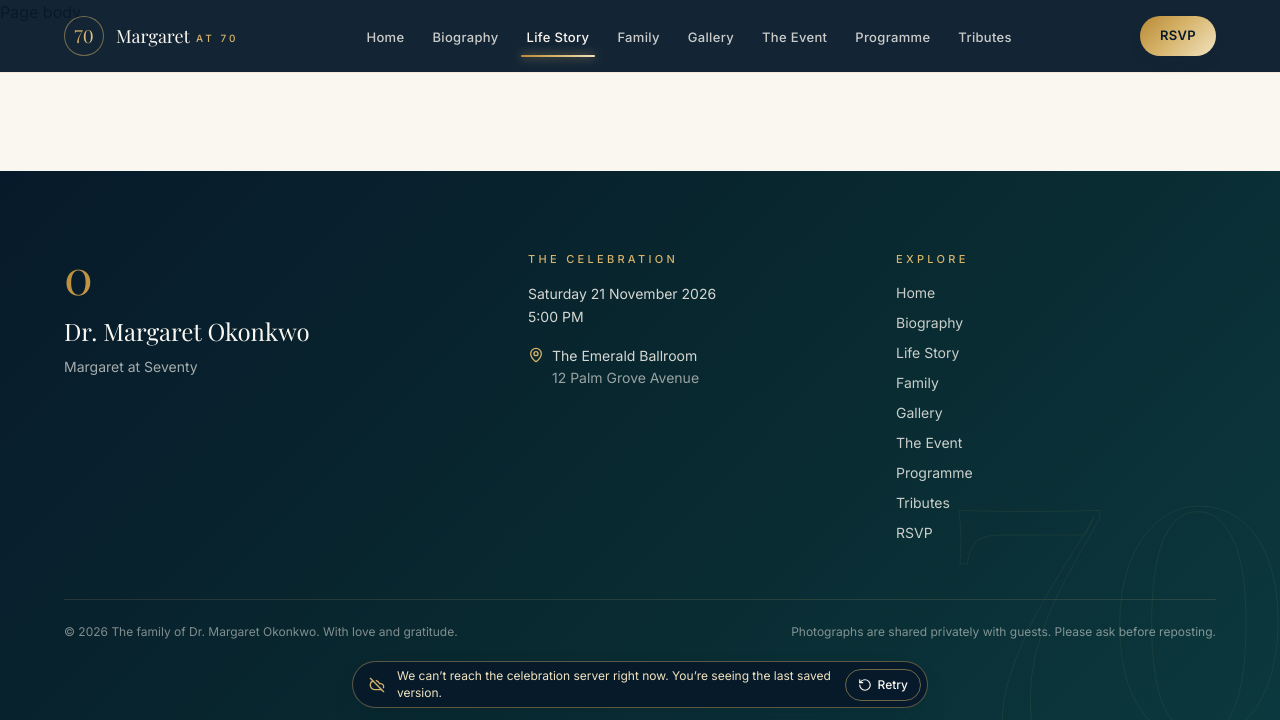
Test: offline banner › appears on a network error with saved data, and goes when the server is back
This screenshot has width=1280, height=720.
Expected: the text "We can’t reach the celebration server right now" shows "You’re seeing the last saved version.", [397,668,831,700]
Expected: the text "Page body" is shown, [0,2,81,22]
Click the button "Retry": (883, 684) [844,668,921,700]
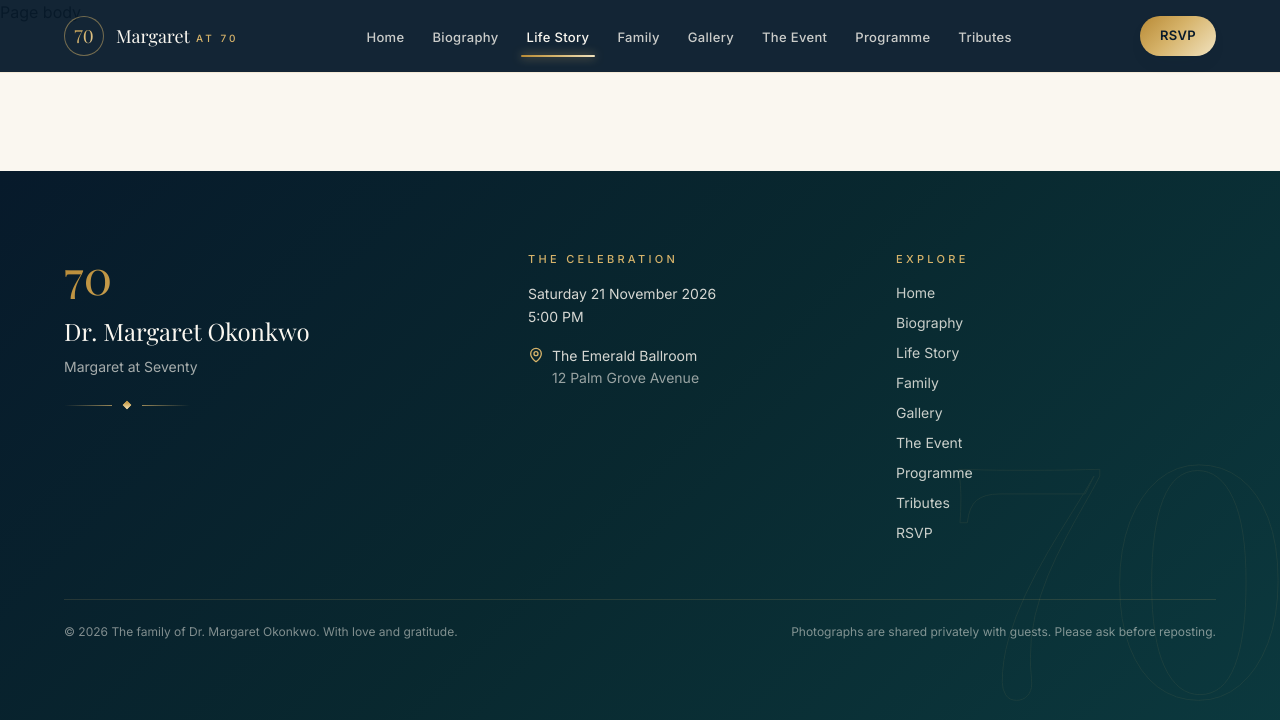
Expected: the text "We can’t reach the celebration server" is gone
